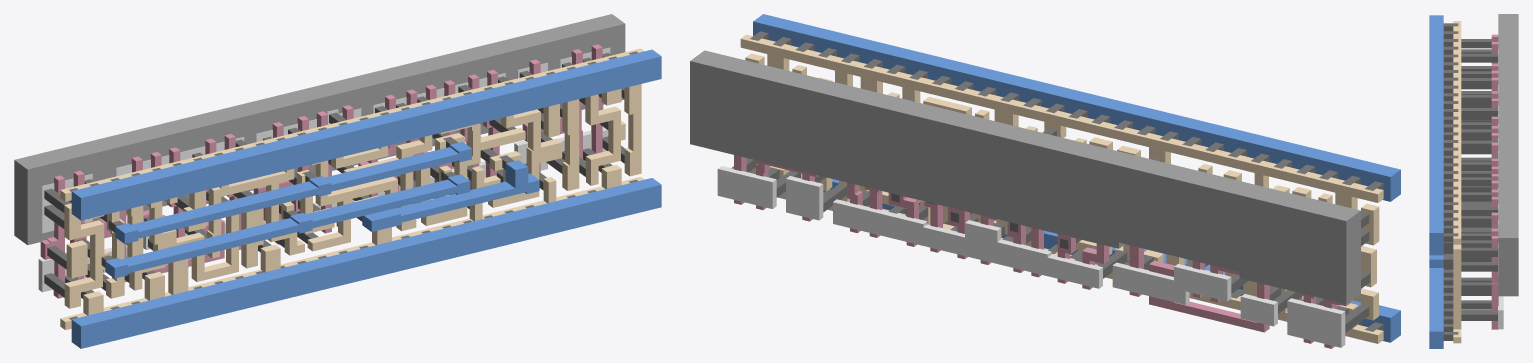
The model's file is sky130_fd_sc_hd__sdfrbp_1.gds.gltf.
3 views of the same model, side by side, from view 1: azimuth 30°, elevation 25°; view 2: azimuth 150°, elevation 25°; view 3: azimuth 270°, elevation 25° (orthographic). The views are drawn at different scales.
Parts seen in each view (by area): view 1: sky130_fd_sc_hd__sdfrbp_1_met1, sky130_fd_sc_hd__sdfrbp_1_li1, sky130_fd_sc_hd__sdfrbp_1_nwell, sky130_fd_sc_hd__sdfrbp_1_poly, sky130_fd_sc_hd__sdfrbp_1_licon, sky130_fd_sc_hd__sdfrbp_1_diff, sky130_fd_sc_hd__sdfrbp_1_mcon; view 2: sky130_fd_sc_hd__sdfrbp_1_nwell, sky130_fd_sc_hd__sdfrbp_1_li1, sky130_fd_sc_hd__sdfrbp_1_diff, sky130_fd_sc_hd__sdfrbp_1_met1, sky130_fd_sc_hd__sdfrbp_1_poly, sky130_fd_sc_hd__sdfrbp_1_licon, sky130_fd_sc_hd__sdfrbp_1_mcon; view 3: sky130_fd_sc_hd__sdfrbp_1_licon, sky130_fd_sc_hd__sdfrbp_1_nwell, sky130_fd_sc_hd__sdfrbp_1_met1, sky130_fd_sc_hd__sdfrbp_1_mcon, sky130_fd_sc_hd__sdfrbp_1_li1, sky130_fd_sc_hd__sdfrbp_1_poly, sky130_fd_sc_hd__sdfrbp_1_diff.
Part boxes in pixels (bbox=[...]): sky130_fd_sc_hd__sdfrbp_1_met1: bbox=[71, 49, 661, 348]; sky130_fd_sc_hd__sdfrbp_1_li1: bbox=[60, 48, 644, 329]; sky130_fd_sc_hd__sdfrbp_1_nwell: bbox=[14, 14, 625, 245]; sky130_fd_sc_hd__sdfrbp_1_poly: bbox=[40, 44, 603, 298]; sky130_fd_sc_hd__sdfrbp_1_licon: bbox=[44, 53, 624, 298]; sky130_fd_sc_hd__sdfrbp_1_diff: bbox=[38, 47, 610, 292]; sky130_fd_sc_hd__sdfrbp_1_mcon: bbox=[69, 51, 637, 319]; sky130_fd_sc_hd__sdfrbp_1_nwell: bbox=[690, 50, 1360, 304]; sky130_fd_sc_hd__sdfrbp_1_li1: bbox=[740, 34, 1383, 343]; sky130_fd_sc_hd__sdfrbp_1_diff: bbox=[717, 166, 1345, 347]; sky130_fd_sc_hd__sdfrbp_1_met1: bbox=[753, 14, 1400, 342]; sky130_fd_sc_hd__sdfrbp_1_poly: bbox=[734, 155, 1351, 348]; sky130_fd_sc_hd__sdfrbp_1_licon: bbox=[731, 82, 1370, 332]; sky130_fd_sc_hd__sdfrbp_1_mcon: bbox=[750, 31, 1383, 331]; sky130_fd_sc_hd__sdfrbp_1_licon: bbox=[1461, 39, 1497, 320]; sky130_fd_sc_hd__sdfrbp_1_nwell: bbox=[1498, 14, 1518, 296]; sky130_fd_sc_hd__sdfrbp_1_met1: bbox=[1429, 15, 1443, 348]; sky130_fd_sc_hd__sdfrbp_1_mcon: bbox=[1443, 23, 1458, 340]; sky130_fd_sc_hd__sdfrbp_1_li1: bbox=[1453, 21, 1461, 343]; sky130_fd_sc_hd__sdfrbp_1_poly: bbox=[1491, 34, 1498, 329]; sky130_fd_sc_hd__sdfrbp_1_diff: bbox=[1498, 49, 1503, 329].
Bounding box in the file's own units: 13.26 × 3.2 × 2.24.
